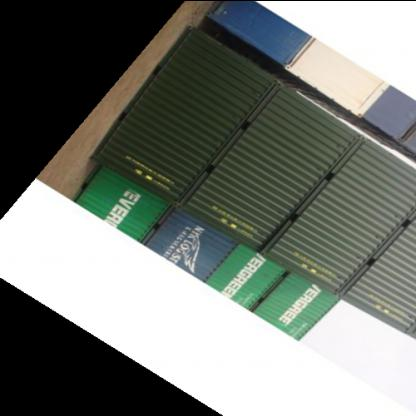Damage: (244, 84, 268, 105), (328, 140, 352, 154), (370, 231, 392, 245), (330, 272, 354, 284)
